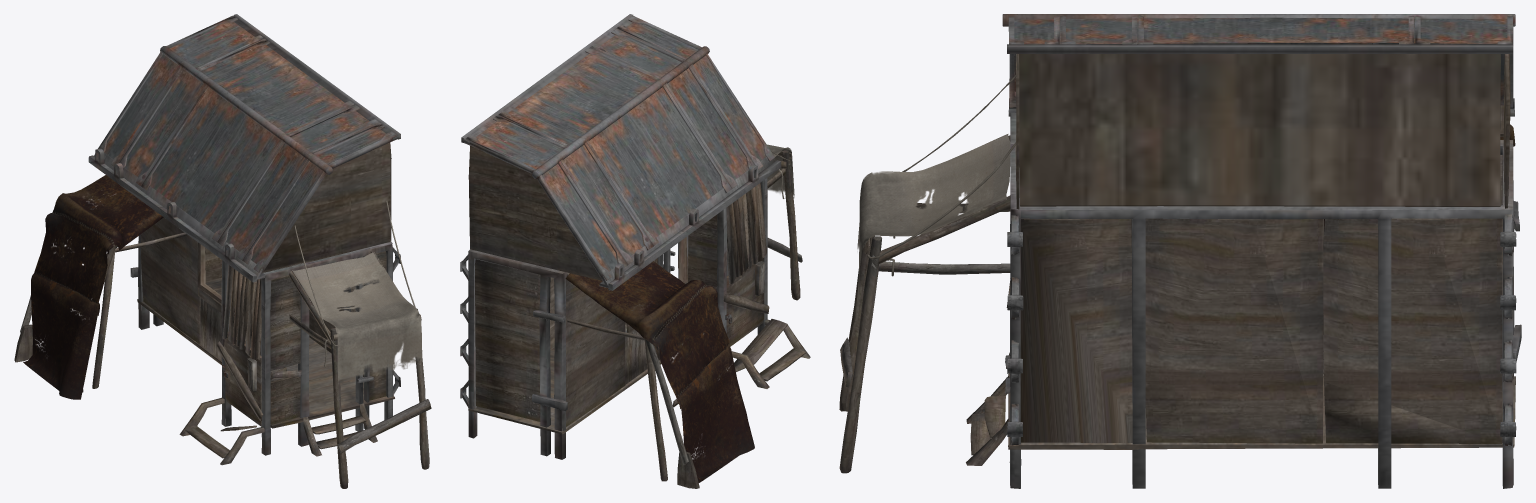
File: stable.glb
3 renders of one model, left to right at view 1: azimuth 30°, elevation 25°; view 2: azimuth 150°, elevation 25°; view 3: azimuth 270°, elevation 25°, orthographic. The views are drawn at different scales.
Parts seen in each view (by area): view 1: Plane.005_roof_0, Plane.005_floor_clothes_0, Plane.005_sides_0, Plane.005_front_0, Plane.005_stairs_holders_0, Plane.005_metal_parts_0; view 2: Plane.005_roof_0, Plane.005_sides_0, Plane.005_floor_clothes_0, Plane.005_front_0, Plane.005_metal_parts_0, Plane.005_stairs_holders_0; view 3: Plane.005_front_0, Plane.005_sides_0, Plane.005_metal_parts_0, Plane.005_roof_0, Plane.005_floor_clothes_0, Plane.005_stairs_holders_0.
Boxes of the visible parts, left/top/right/bottom form: Plane.005_roof_0: left=88, top=14, right=400, bottom=282; Plane.005_floor_clothes_0: left=23, top=175, right=422, bottom=428; Plane.005_sides_0: left=205, top=142, right=391, bottom=424; Plane.005_front_0: left=141, top=217, right=363, bottom=423; Plane.005_stairs_holders_0: left=14, top=193, right=431, bottom=488; Plane.005_metal_parts_0: left=130, top=234, right=400, bottom=455; Plane.005_roof_0: left=461, top=14, right=781, bottom=290; Plane.005_sides_0: left=468, top=24, right=751, bottom=421; Plane.005_floor_clothes_0: left=468, top=144, right=794, bottom=482; Plane.005_front_0: left=550, top=183, right=769, bottom=426; Plane.005_metal_parts_0: left=460, top=178, right=767, bottom=459; Plane.005_stairs_holders_0: left=567, top=150, right=810, bottom=488; Plane.005_front_0: left=1020, top=155, right=1502, bottom=443; Plane.005_sides_0: left=1006, top=54, right=1510, bottom=308; Plane.005_metal_parts_0: left=1005, top=112, right=1521, bottom=488; Plane.005_roof_0: left=1002, top=14, right=1515, bottom=116; Plane.005_floor_clothes_0: left=856, top=75, right=1515, bottom=449; Plane.005_stairs_holders_0: left=839, top=135, right=1502, bottom=473.
Bounding box in the file's own units: 2.5 × 3 × 4.15.
6 materials, 6 textured.
